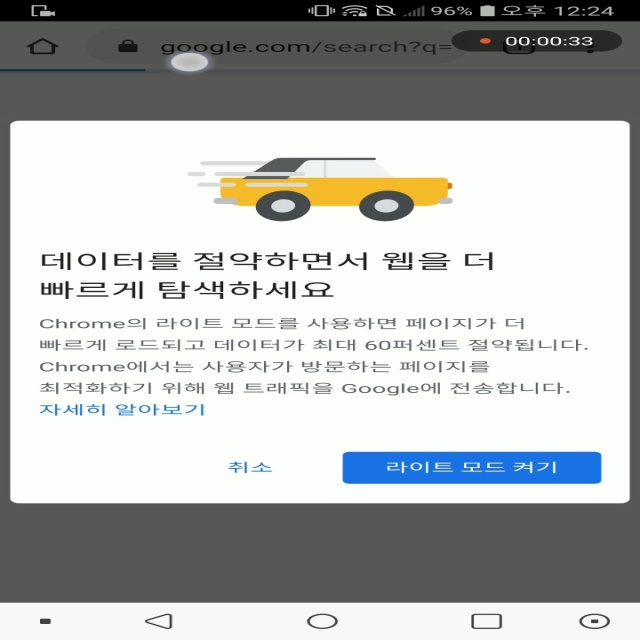Cursor: (168, 52, 212, 74)
